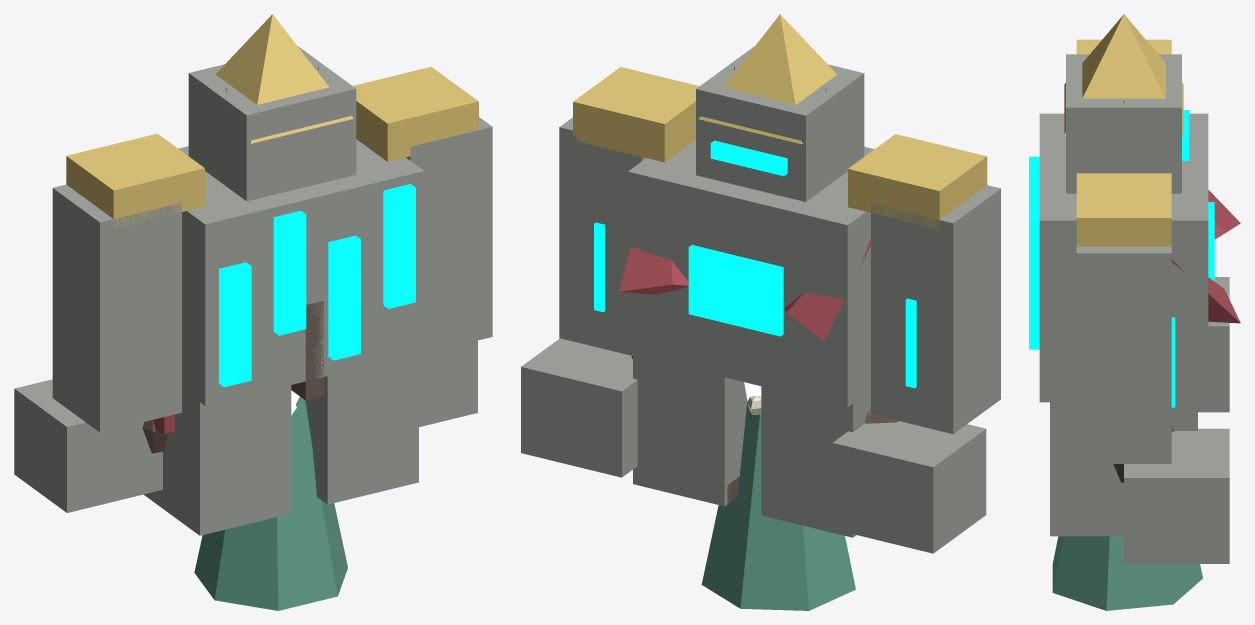
Rendered from jungle_monsters.glb.
3 views of the same model, side by side, from view 1: azimuth 30°, elevation 25°; view 2: azimuth 150°, elevation 25°; view 3: azimuth 270°, elevation 25° (orthographic).
Visible parts, largest first — view 1: guardian_armL, guardian_body, guardian_armR, guardian_head, guardian_legL, shaman_body, guardian_legR, demon_body, demon_armL; view 2: guardian_armL, guardian_body, guardian_armR, guardian_head, shaman_body, guardian_legR, guardian_legL, demon_body; view 3: guardian_armR, guardian_body, guardian_head, shaman_body, guardian_legR, guardian_armL, demon_body.
Boxes of the visible parts, x1=… form: guardian_armL: x1=14, y1=133, x2=204, y2=512; guardian_body: x1=178, y1=139, x2=424, y2=405; guardian_armR: x1=353, y1=66, x2=492, y2=427; guardian_head: x1=188, y1=14, x2=356, y2=201; guardian_legL: x1=143, y1=385, x2=291, y2=535; shaman_body: x1=194, y1=396, x2=347, y2=610; guardian_legR: x1=306, y1=354, x2=418, y2=504; demon_body: x1=291, y1=300, x2=323, y2=400; demon_armL: x1=142, y1=414, x2=174, y2=453; guardian_armL: x1=832, y1=134, x2=1000, y2=553; guardian_body: x1=628, y1=140, x2=874, y2=407; guardian_armR: x1=521, y1=67, x2=699, y2=477; guardian_head: x1=696, y1=14, x2=864, y2=201; shaman_body: x1=701, y1=396, x2=855, y2=610; guardian_legR: x1=633, y1=355, x2=747, y2=506; guardian_legL: x1=761, y1=386, x2=870, y2=537; demon_body: x1=619, y1=238, x2=870, y2=341; guardian_armR: x1=1076, y1=173, x2=1229, y2=563; guardian_body: x1=1029, y1=113, x2=1214, y2=402; guardian_head: x1=1064, y1=14, x2=1189, y2=193; shaman_body: x1=1052, y1=536, x2=1202, y2=610; guardian_legR: x1=1050, y1=402, x2=1197, y2=536; guardian_armL: x1=1076, y1=39, x2=1229, y2=412; demon_body: x1=1171, y1=190, x2=1240, y2=323.
Size of the model in its own units: 4.5 by 5.9 by 2.01.
